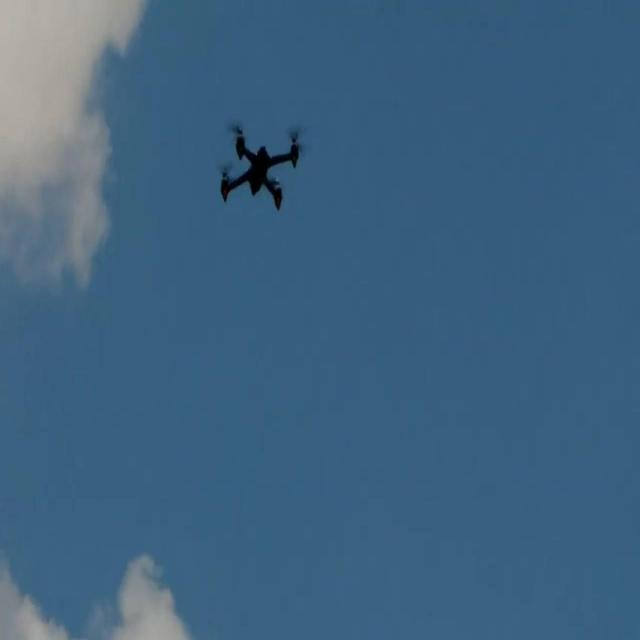UAV: (219, 120, 301, 212)
